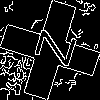Z: (25, 25, 77, 68)
